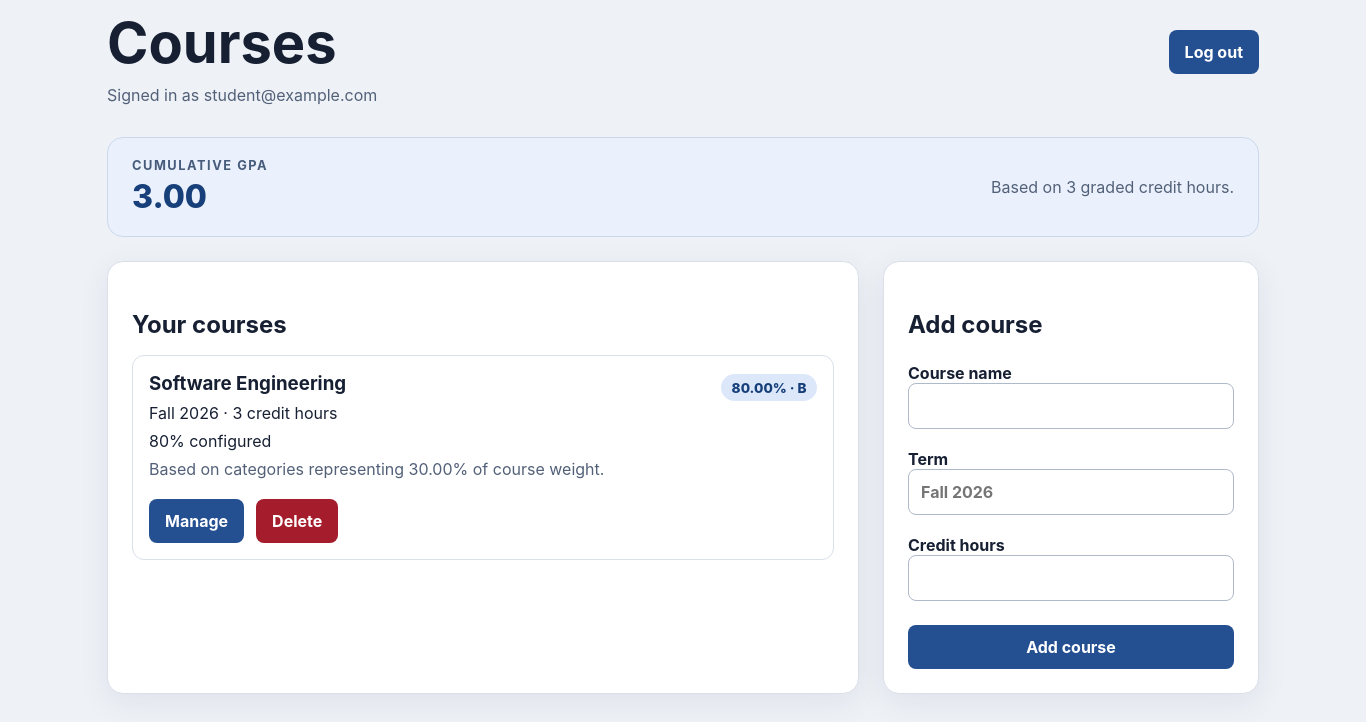
it: What-If calculator › changing Category clears an existing projection
This screenshot has width=1366, height=722.
Click the button "Manage" at (197, 521), box x1=149 y1=499 x2=244 y2=543
(page scrolled)
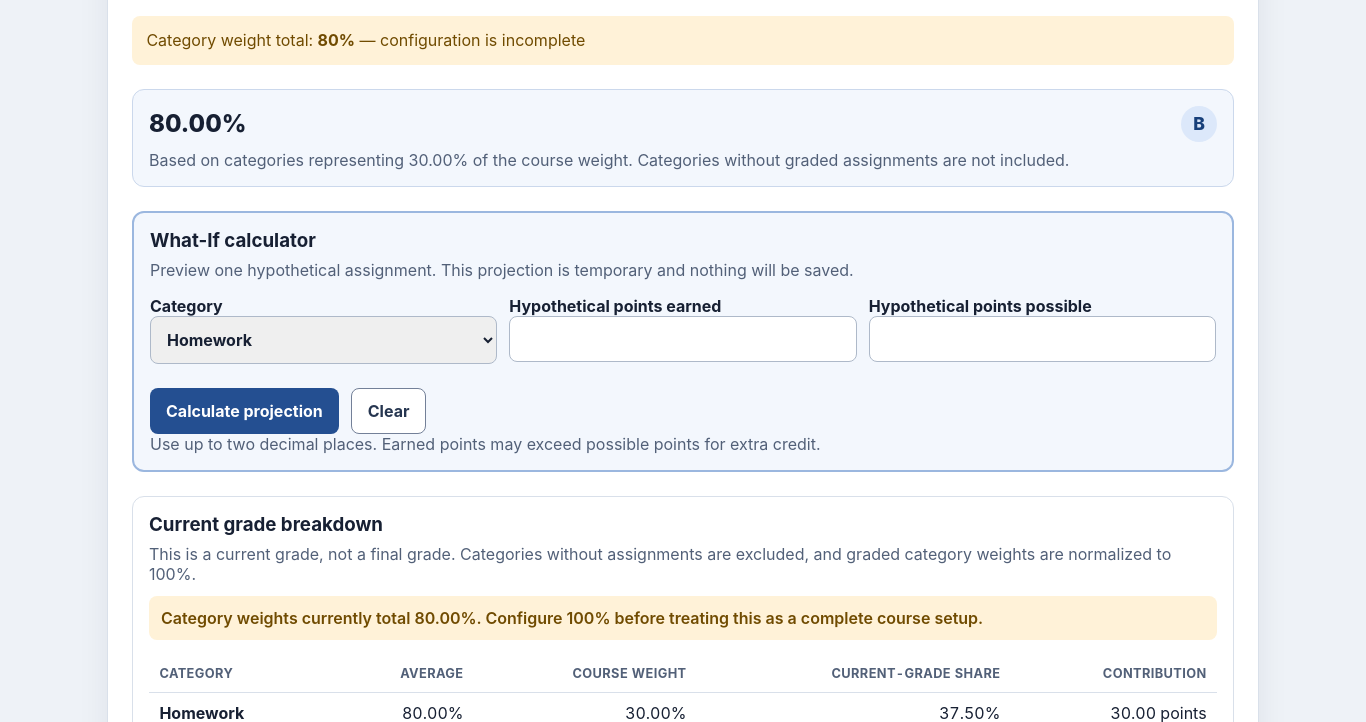
Expected: the heading "What-If calculator" is shown, x1=150 y1=229 x2=316 y2=252
Type "92" into the number field labelled "Hypothetical points earned" at (683, 339), box x1=509 y1=316 x2=857 y2=362
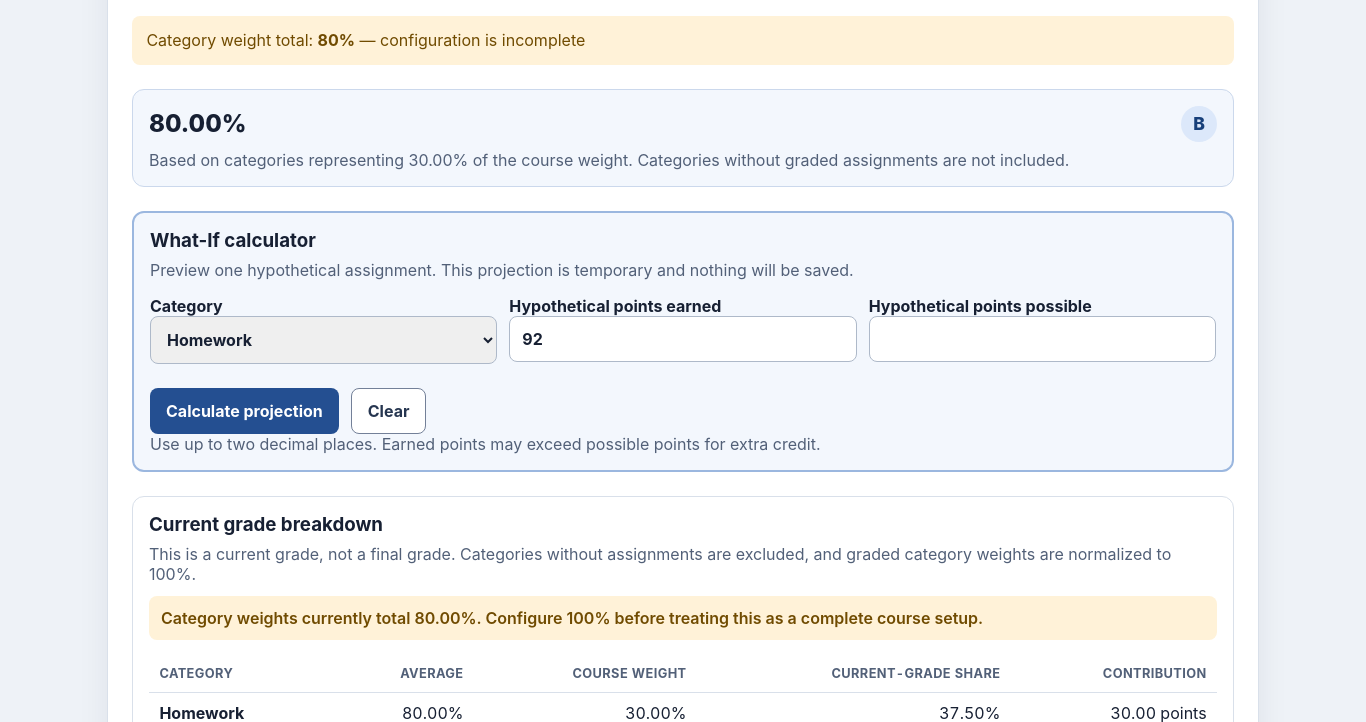
Type "100" into the number field labelled "Hypothetical points possible" at (1042, 339), box x1=869 y1=316 x2=1216 y2=362
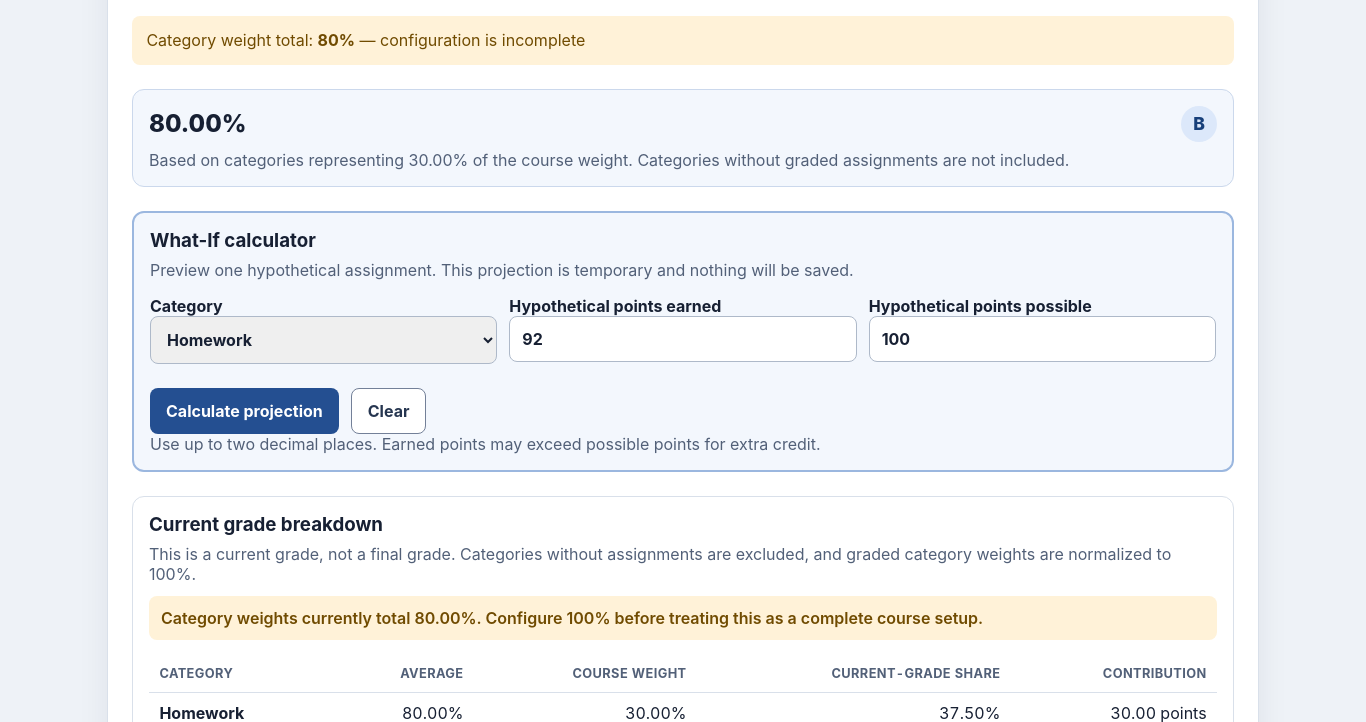
Click the button "Calculate projection" at (244, 411), box x1=150 y1=388 x2=339 y2=434
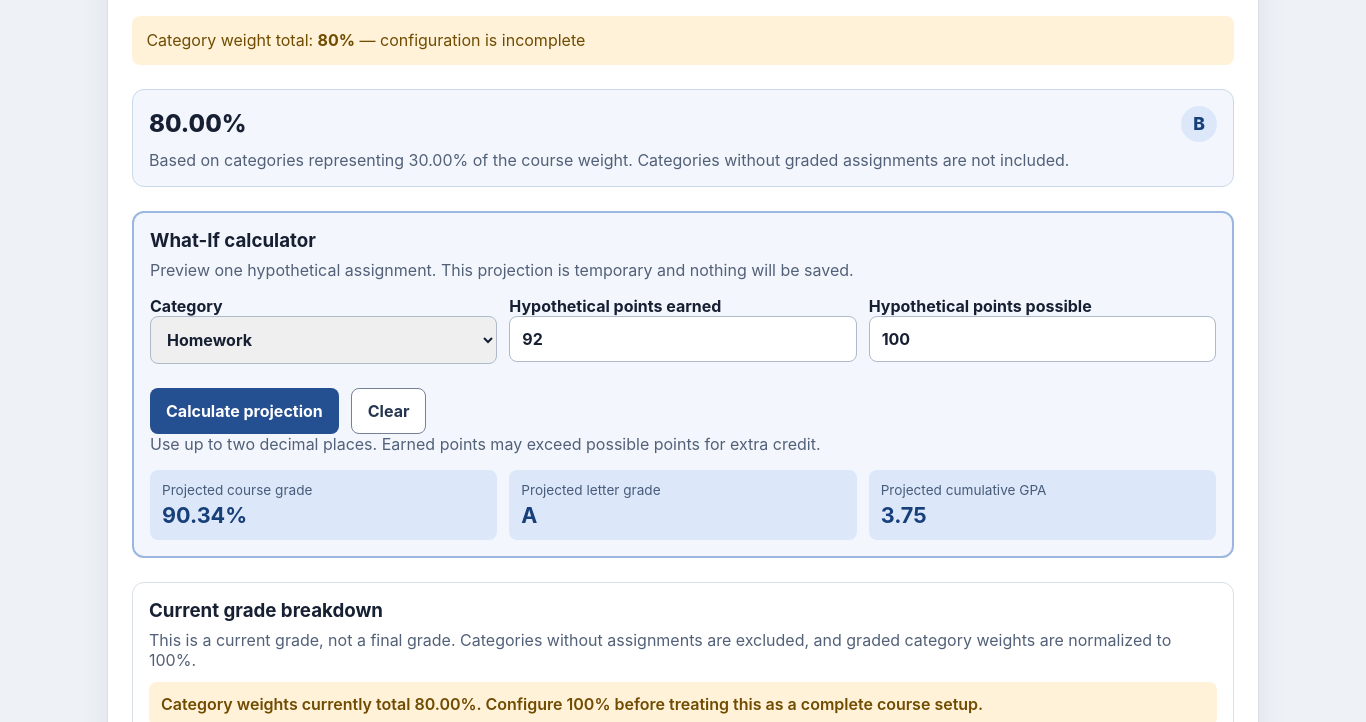
Expected: the text "90.34%" is shown, x1=162 y1=502 x2=247 y2=528
Select "Exams" in the dropdown labelled "Category" at (324, 340), box x1=150 y1=316 x2=497 y2=364
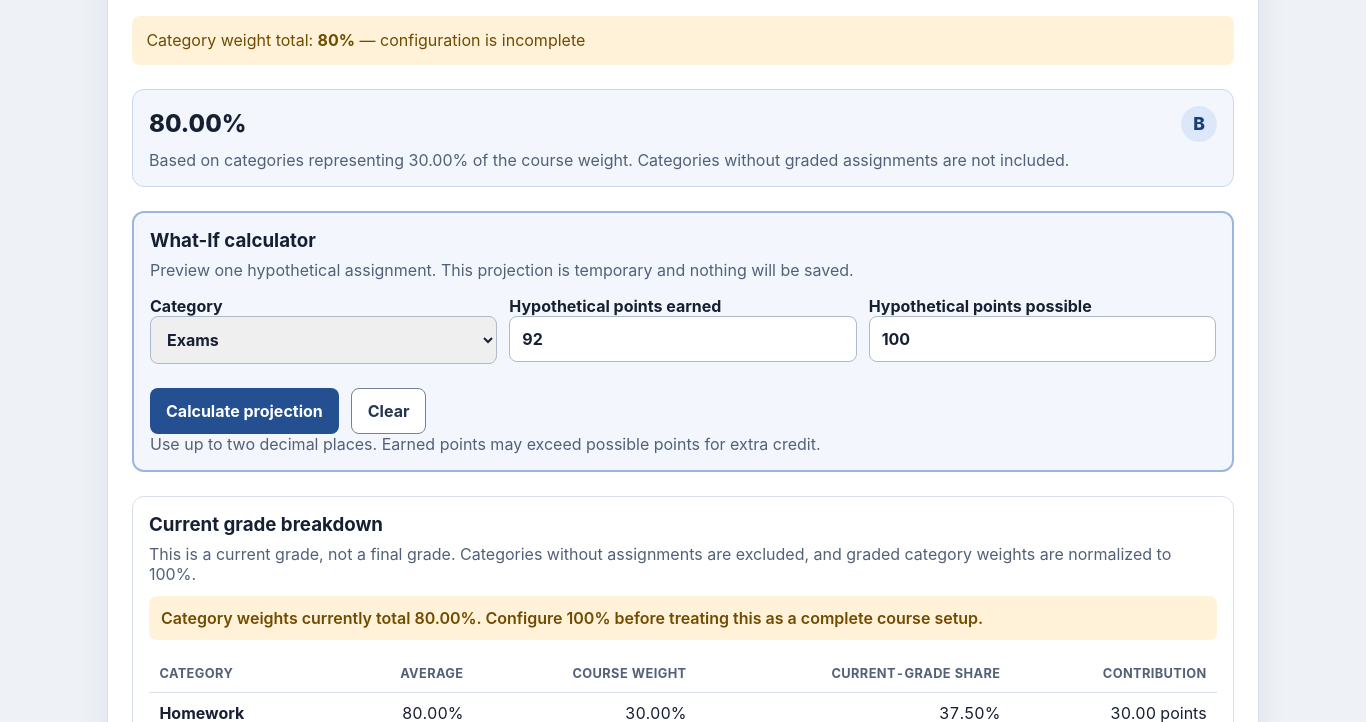
Expected: the text "90.34%" is gone
